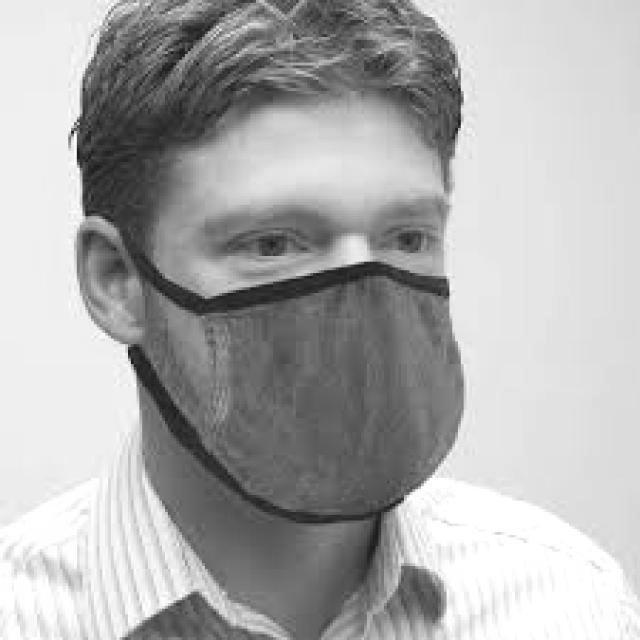fake: (198, 259, 471, 521)
real: (165, 97, 464, 536)
